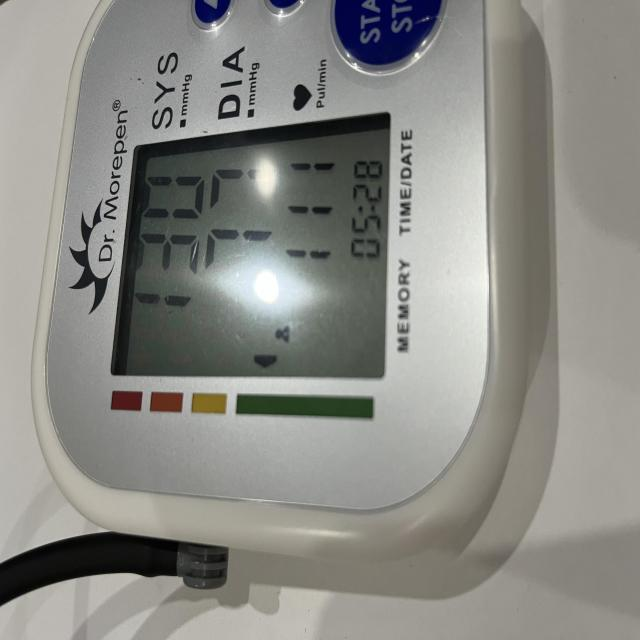bp: (0, 0, 560, 636)
